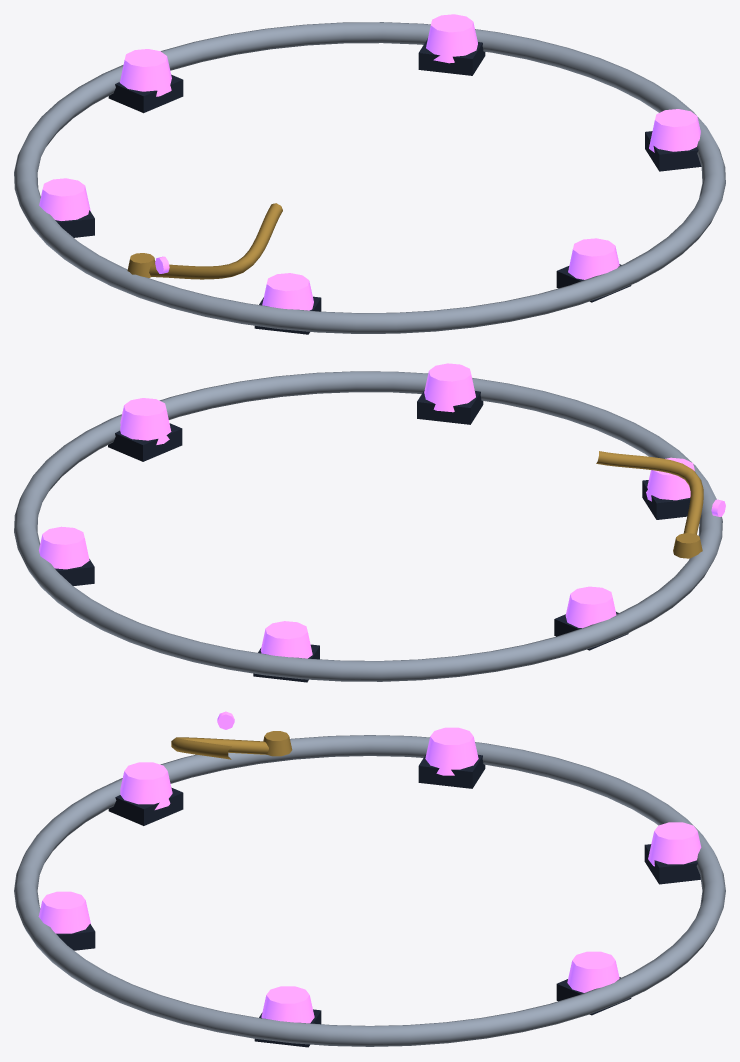
The model's file is tower_singularity_range_s6.glb.
3 renders of one model, top to bottom at view 1: azimuth 30°, elevation 25°; view 2: azimuth 150°, elevation 25°; view 3: azimuth 270°, elevation 25°, orthographic.
Visible parts, largest first — view 1: singularity_projector_ring, singularity_projector_conduit, singularity_projector_node2, singularity_projector_node1, singularity_projector_node3, singularity_projector_node0, singularity_projector_node4, singularity_projector_node5, singularity_projector_shoe1, singularity_projector_shoe2, singularity_projector_shoe3, singularity_projector_shoe0 (+1 smaller); view 2: singularity_projector_ring, singularity_projector_conduit, singularity_projector_node4, singularity_projector_node3, singularity_projector_node2, singularity_projector_node0, singularity_projector_node1, singularity_projector_shoe3, singularity_projector_node5, singularity_projector_shoe4, singularity_projector_shoe5, singularity_projector_gland (+1 smaller); view 3: singularity_projector_ring, singularity_projector_node0, singularity_projector_node5, singularity_projector_node1, singularity_projector_node4, singularity_projector_node2, singularity_projector_node3, singularity_projector_conduit, singularity_projector_shoe5, singularity_projector_shoe0, singularity_projector_shoe1, singularity_projector_shoe4 (+1 smaller).
Part boxes in pixels (bbox=[...]): singularity_projector_ring: bbox=[14, 22, 725, 333]; singularity_projector_conduit: bbox=[149, 203, 282, 279]; singularity_projector_node2: bbox=[426, 14, 477, 63]; singularity_projector_node1: bbox=[119, 49, 171, 96]; singularity_projector_node3: bbox=[649, 109, 700, 152]; singularity_projector_node0: bbox=[39, 178, 90, 220]; singularity_projector_node4: bbox=[568, 238, 619, 279]; singularity_projector_node5: bbox=[262, 273, 313, 310]; singularity_projector_shoe1: bbox=[108, 74, 183, 113]; singularity_projector_shoe2: bbox=[418, 38, 485, 75]; singularity_projector_shoe3: bbox=[645, 131, 701, 171]; singularity_projector_shoe0: bbox=[55, 210, 94, 237]; singularity_projector_ring: bbox=[14, 371, 722, 681]; singularity_projector_conduit: bbox=[596, 451, 703, 534]; singularity_projector_node4: bbox=[424, 363, 475, 412]; singularity_projector_node3: bbox=[120, 398, 171, 444]; singularity_projector_node2: bbox=[39, 526, 89, 569]; singularity_projector_node0: bbox=[565, 586, 616, 628]; singularity_projector_node1: bbox=[260, 621, 312, 658]; singularity_projector_shoe3: bbox=[108, 423, 182, 461]; singularity_projector_node5: bbox=[646, 457, 694, 501]; singularity_projector_shoe4: bbox=[417, 390, 483, 424]; singularity_projector_shoe5: bbox=[642, 480, 690, 519]; singularity_projector_gland: bbox=[673, 533, 702, 558]; singularity_projector_ring: bbox=[14, 735, 725, 1046]; singularity_projector_node0: bbox=[425, 727, 478, 775]; singularity_projector_node5: bbox=[120, 762, 172, 809]; singularity_projector_node1: bbox=[648, 822, 701, 866]; singularity_projector_node4: bbox=[38, 891, 90, 933]; singularity_projector_node2: bbox=[567, 951, 619, 992]; singularity_projector_node3: bbox=[261, 986, 314, 1023]; singularity_projector_conduit: bbox=[171, 737, 268, 759]; singularity_projector_shoe5: bbox=[108, 787, 183, 825]; singularity_projector_shoe0: bbox=[418, 754, 485, 788]; singularity_projector_shoe1: bbox=[644, 844, 700, 884]; singularity_projector_shoe4: bbox=[56, 924, 95, 950].
Bounding box in the file's own units: 2.29 × 0.2813 × 2.29.
